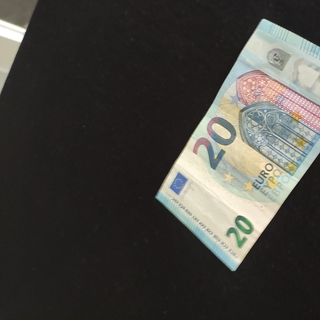20EUROFront: (154, 18, 320, 271)
